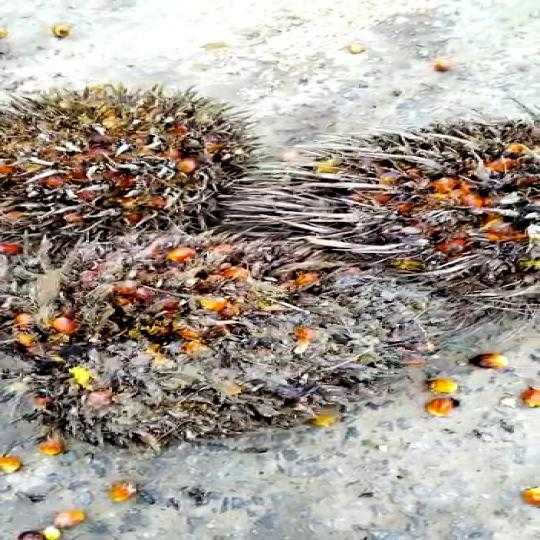terlalu masak: (0, 232, 432, 433), (0, 98, 256, 244)
